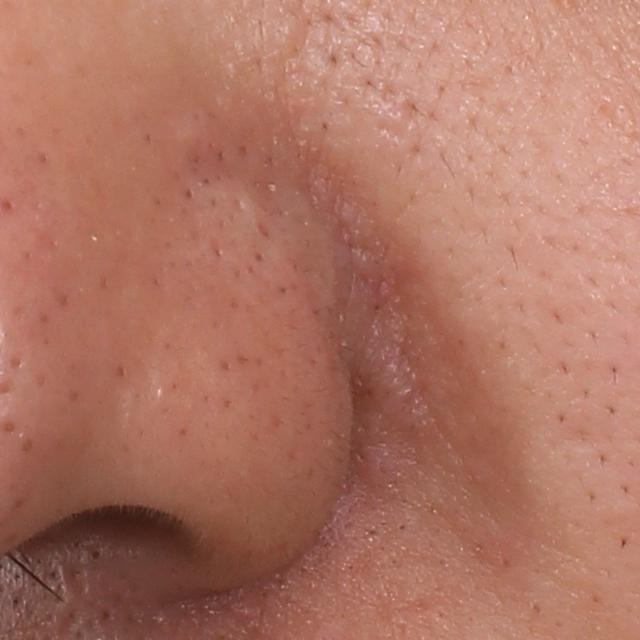hypertrophic_scar: (173, 113, 210, 147)
